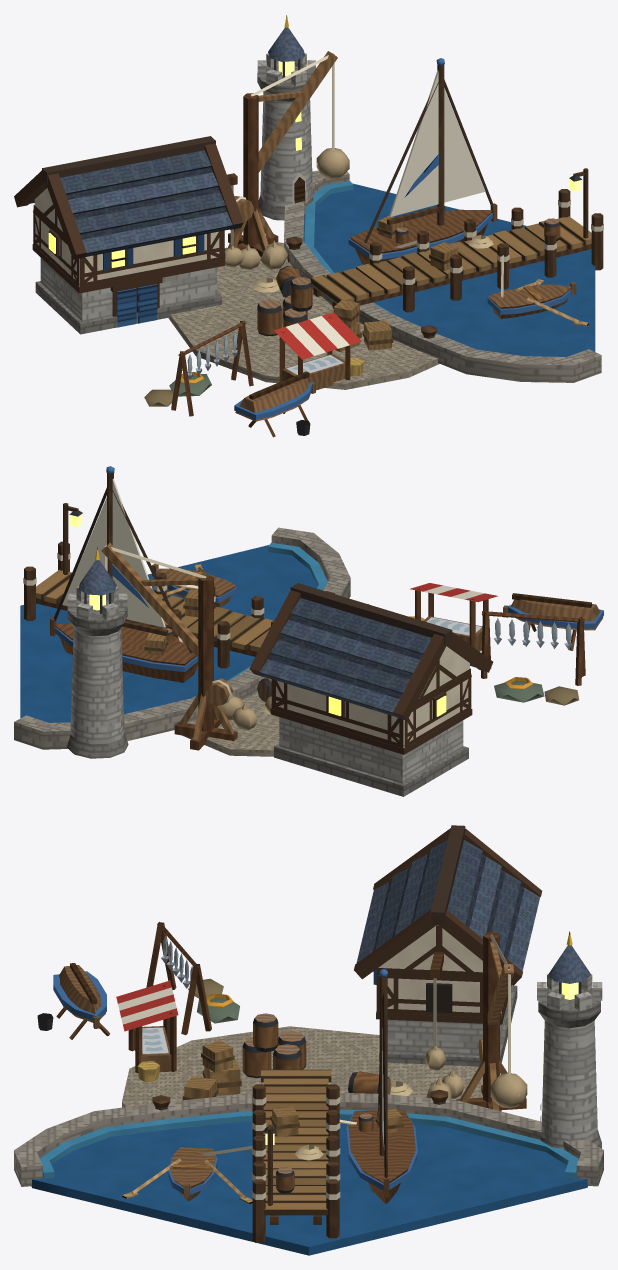
Rendered from port.glb.
3 renders of one model, top to bottom at view 1: azimuth 30°, elevation 25°; view 2: azimuth 150°, elevation 25°; view 3: azimuth 270°, elevation 25°, orthographic. The views are drawn at different scales.
Parts seen in each view (by area): view 1: port; view 2: port; view 3: port.
Part boxes in pixels (<box>): port: <box>14,15,603,437</box>; port: <box>14,466,603,796</box>; port: <box>14,825,603,1255</box>.
Bounding box in the file's own units: 1.47 × 0.572 × 1.36.
4 materials, 1 textured.
